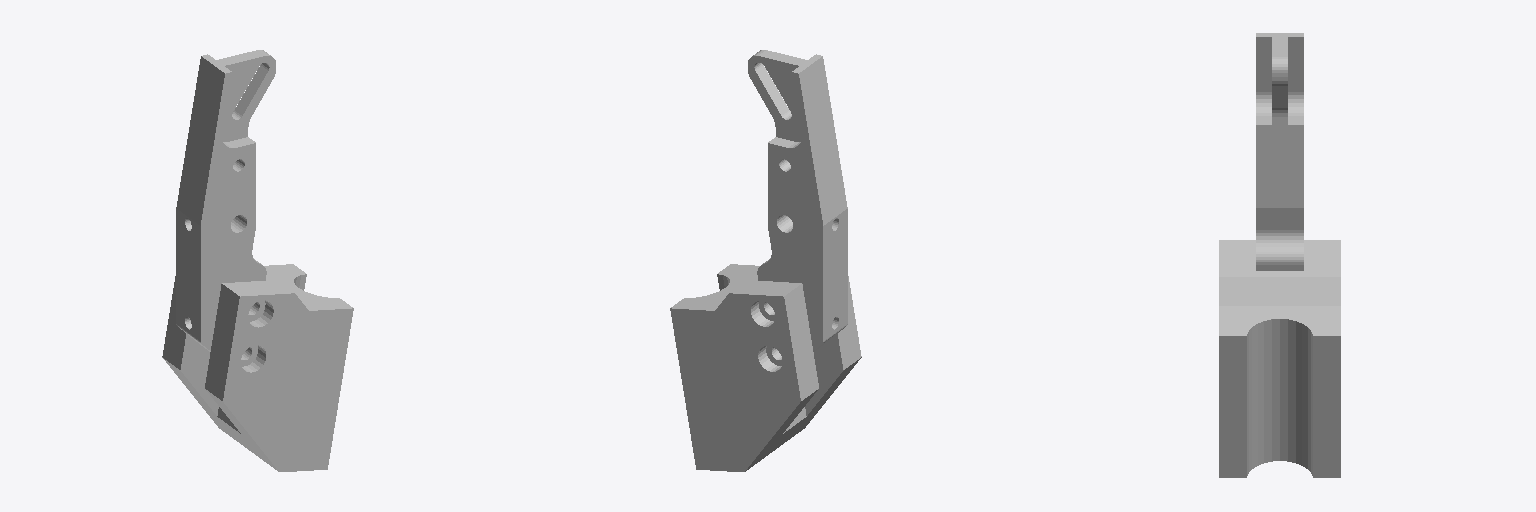
The model's file is clamp_arm_negx.obj.
3 renders of one model, left to right at view 1: azimuth 30°, elevation 25°; view 2: azimuth 150°, elevation 25°; view 3: azimuth 270°, elevation 25°, orthographic.
Bounding box in the file's own units: 0.0387 × 0.1102 × 0.03.